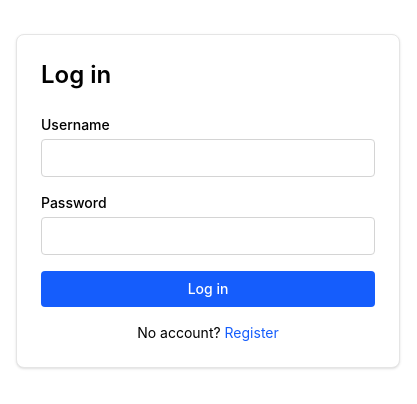
Scenario: LoginPage › shows an error message on failed login
In the field labelled "Username": coordinates (208, 158) 41,139 -> 375,177, type "alice"
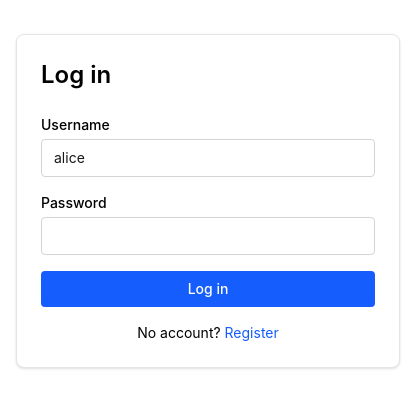
In the password field labelled "Password": coordinates (208, 236) 41,217 -> 375,255, type "wrong"
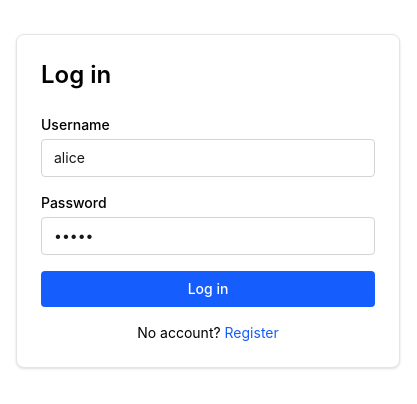
Click the button "Log in": coordinates (208, 289) 41,271 -> 375,307
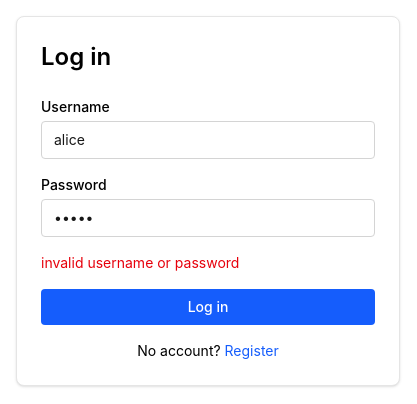
Expected: the message reads "invalid username or password", 41,254 -> 239,271
